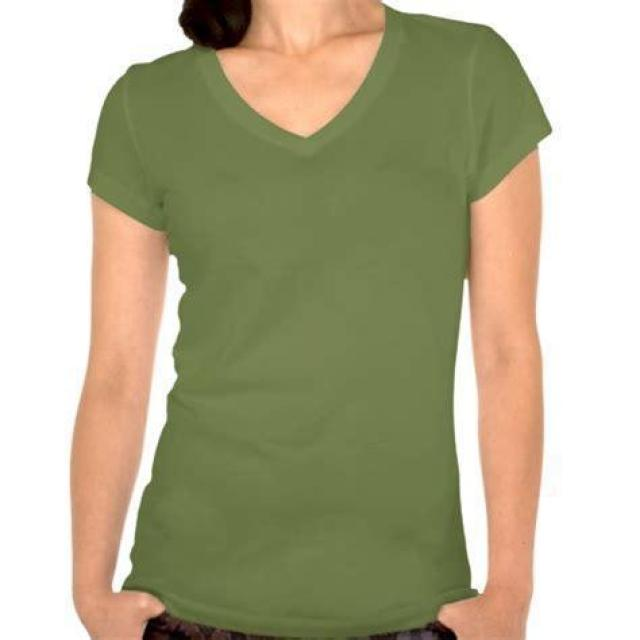Tshirt: (88, 6, 551, 638)
